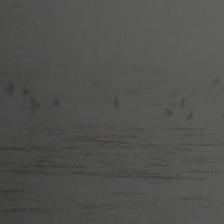surfer: (28, 96, 41, 107), (4, 81, 15, 93), (211, 78, 223, 88), (164, 108, 176, 116), (22, 85, 30, 97), (186, 111, 195, 120), (52, 98, 61, 107), (112, 97, 120, 107), (178, 99, 186, 108)
